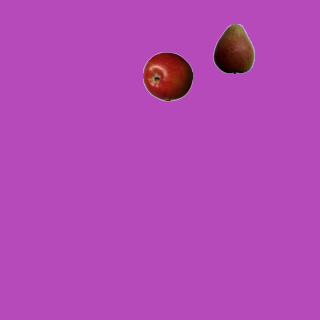Apple Braeburn: (142, 51, 192, 101)
Pear Forelle: (208, 23, 258, 73)
